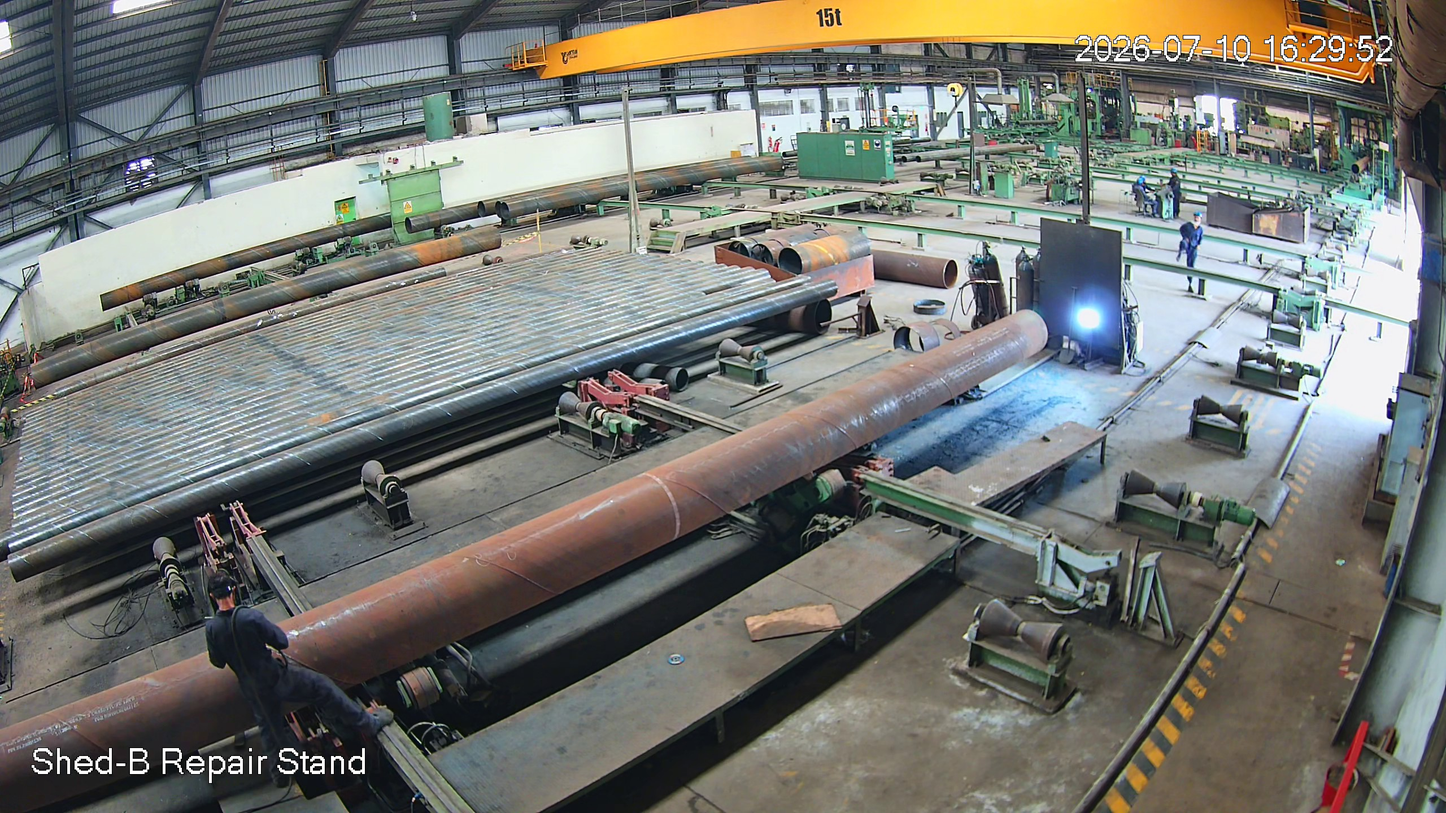Person: (196, 566, 431, 813)
